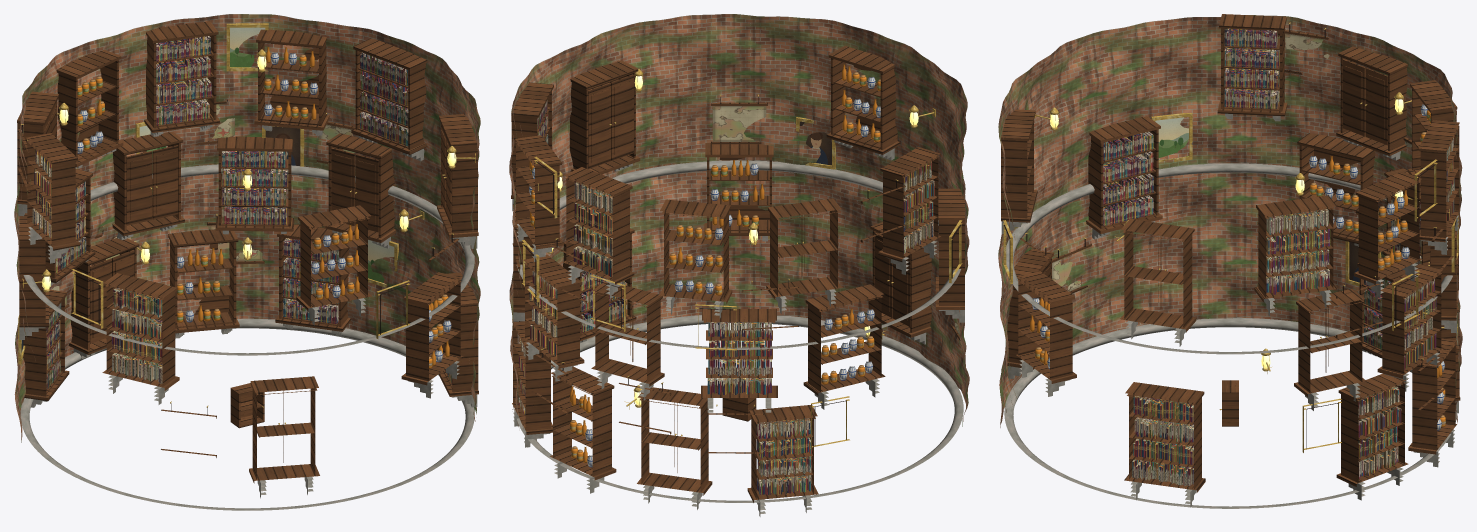
Rendered from ch1_s3_well.glb.
3 renders of one model, left to right at view 1: azimuth 30°, elevation 25°; view 2: azimuth 150°, elevation 25°; view 3: azimuth 270°, elevation 25°, orthographic.
Visible parts, largest first — view 1: S3_WellSegment_Wood, S3_WellSegment_Brick, S3_WellSegment_Books, S3_WellSegment_Stone, S3_WellSegment_Jam, S3_WellSegment_Brass, S3_WellSegment_Porcelain, S3_WellSegment_Landscape, S3_ReturnCupboard, S3_WellSegment_Glow, S3_WellSegment_Label, S3_WellSegment_Map (+1 smaller); view 2: S3_WellSegment_Wood, S3_WellSegment_Brick, S3_WellSegment_Books, S3_WellSegment_Stone, S3_WellSegment_Jam, S3_WellSegment_Brass, S3_WellSegment_Porcelain, S3_WellSegment_Map, S3_WellSegment_Label, S3_ReturnCupboard, S3_WellSegment_Dark, S3_WellSegment_Portrait (+1 smaller); view 3: S3_WellSegment_Wood, S3_WellSegment_Brick, S3_WellSegment_Books, S3_WellSegment_Stone, S3_WellSegment_Brass, S3_WellSegment_Jam, S3_WellSegment_Porcelain, S3_WellSegment_Landscape, S3_ReturnCupboard, S3_WellSegment_Map2, S3_WellSegment_Dark, S3_WellSegment_Map.
Boxes of the visible parts, x1,y1,x2,y2 form: S3_WellSegment_Wood: (17, 21, 478, 483); S3_WellSegment_Brick: (14, 14, 480, 442); S3_WellSegment_Books: (32, 36, 452, 389); S3_WellSegment_Stone: (18, 125, 477, 510); S3_WellSegment_Jam: (77, 47, 449, 368); S3_WellSegment_Brass: (18, 23, 475, 424); S3_WellSegment_Porcelain: (77, 52, 451, 362); S3_WellSegment_Landscape: (139, 27, 394, 282); S3_ReturnCupboard: (230, 383, 264, 428); S3_WellSegment_Glow: (42, 56, 456, 289); S3_WellSegment_Label: (77, 60, 443, 366); S3_WellSegment_Map: (49, 104, 262, 305); S3_WellSegment_Wood: (511, 45, 964, 502); S3_WellSegment_Brick: (509, 14, 969, 447); S3_WellSegment_Books: (517, 99, 934, 494); S3_WellSegment_Stone: (512, 140, 964, 516); S3_WellSegment_Jam: (529, 64, 880, 462); S3_WellSegment_Brass: (515, 69, 962, 449); S3_WellSegment_Porcelain: (529, 77, 880, 467); S3_WellSegment_Map: (712, 106, 766, 141); S3_WellSegment_Label: (530, 78, 880, 459); S3_ReturnCupboard: (722, 378, 756, 421); S3_WellSegment_Dark: (515, 97, 961, 446); S3_WellSegment_Portrait: (799, 121, 831, 165); S3_WellSegment_Wood: (1001, 14, 1460, 492); S3_WellSegment_Brick: (998, 15, 1462, 427); S3_WellSegment_Books: (1103, 28, 1454, 485); S3_WellSegment_Stone: (1001, 113, 1458, 508); S3_WellSegment_Brass: (1003, 22, 1458, 452); S3_WellSegment_Jam: (1030, 110, 1445, 426); S3_WellSegment_Porcelain: (1032, 104, 1444, 430); S3_WellSegment_Landscape: (1155, 117, 1188, 157); S3_ReturnCupboard: (1222, 380, 1238, 426); S3_WellSegment_Map2: (1052, 141, 1458, 347); S3_WellSegment_Dark: (1004, 24, 1457, 448); S3_WellSegment_Map: (1285, 33, 1329, 58).
Bounding box in the file's own units: 8.17 × 6.15 × 8.17.
15 materials, 11 textured.
